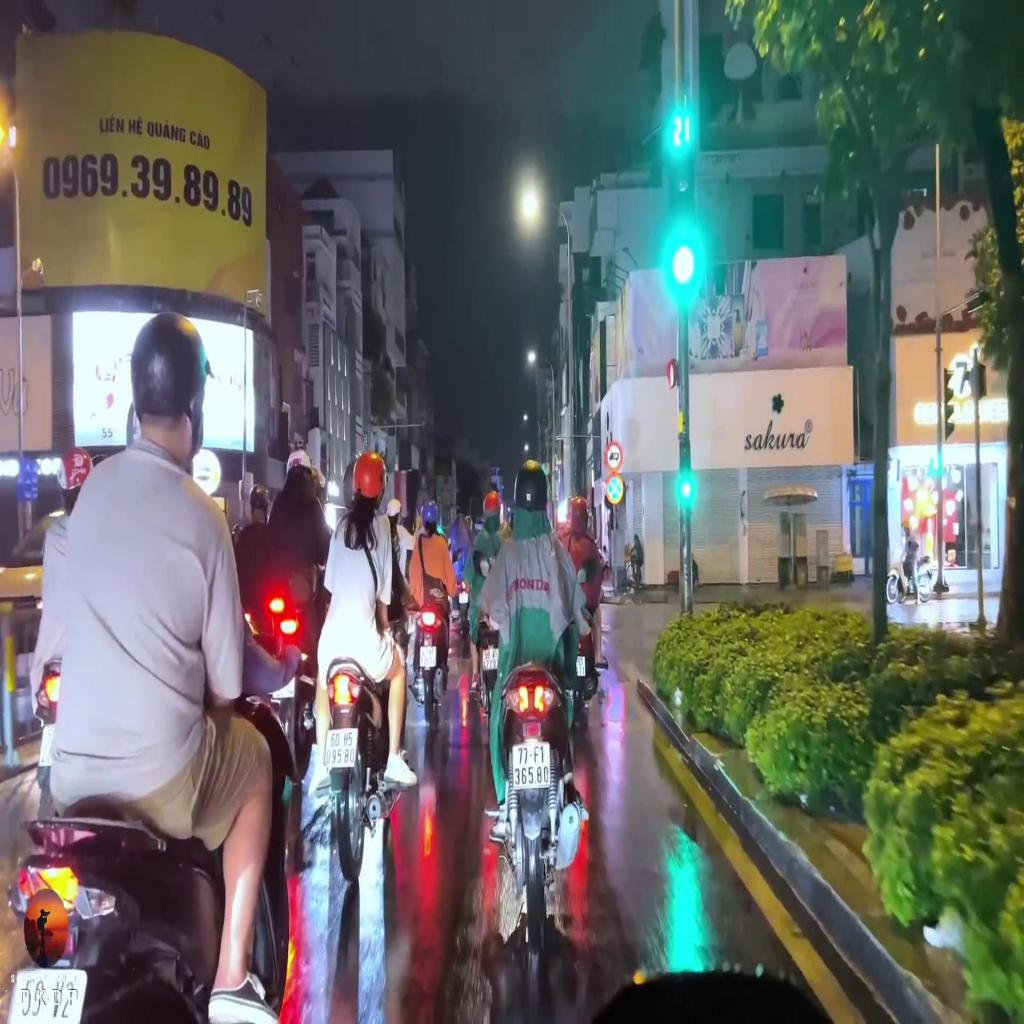cam_dung_xe_va_do_xe: (606, 474, 623, 504)
cam_o_to_tai: (606, 442, 622, 472)
